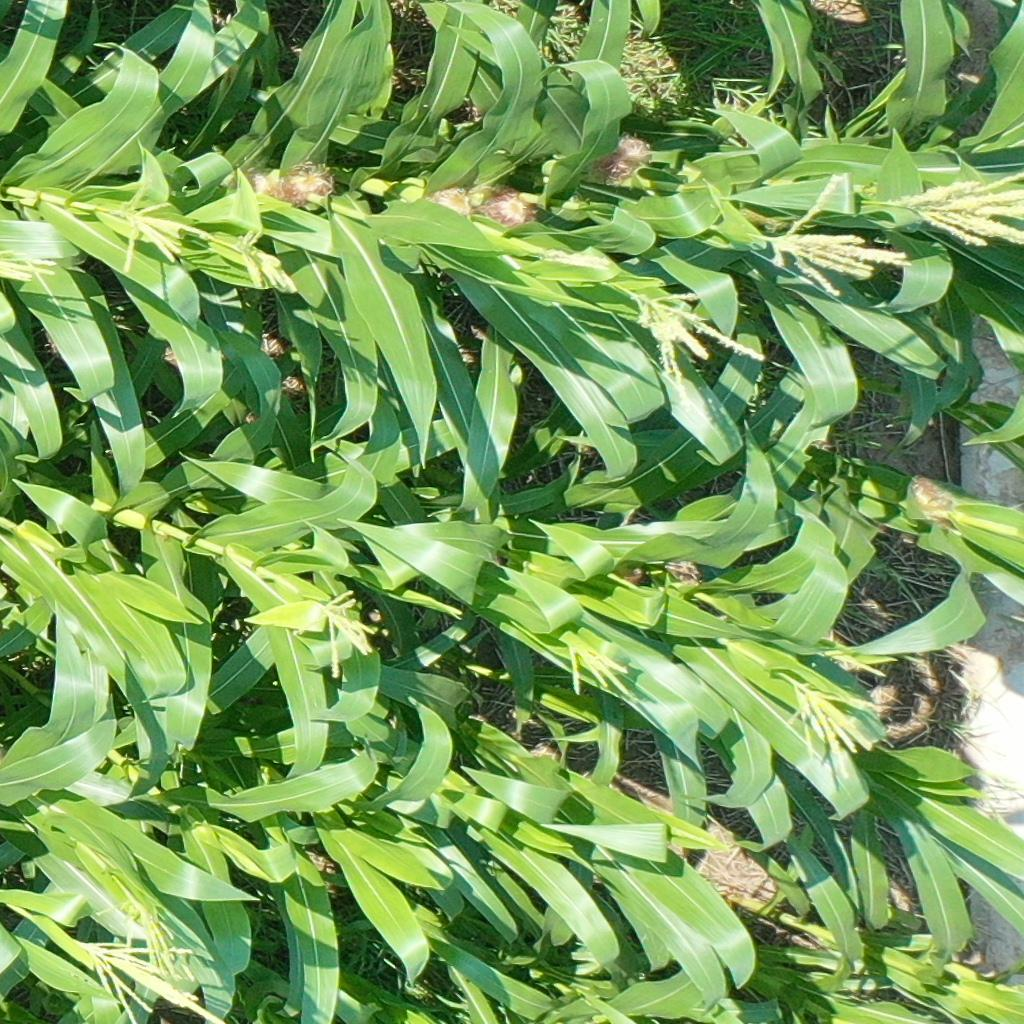Tassel: (761, 172, 911, 300), (626, 282, 763, 377), (80, 937, 209, 1022), (889, 172, 1024, 248), (781, 671, 880, 757), (290, 590, 380, 679), (117, 192, 212, 272), (116, 893, 198, 980), (564, 640, 635, 702), (235, 223, 289, 289), (1, 245, 57, 286)
